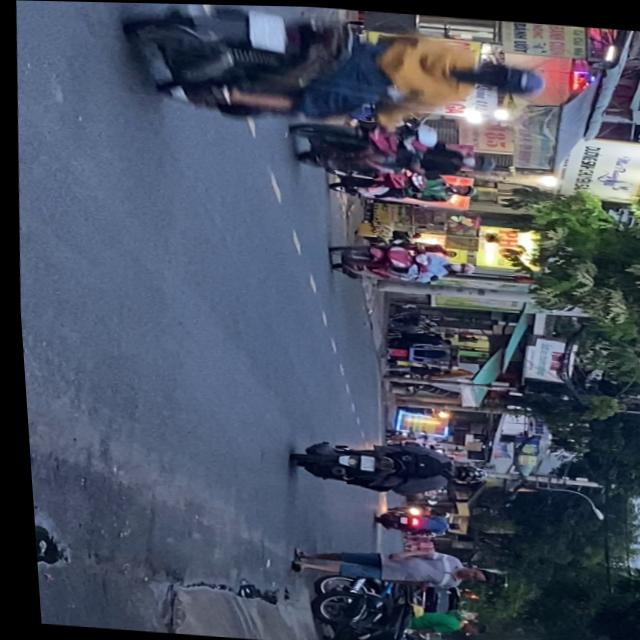helmet: (472, 55, 548, 96), (460, 148, 496, 169), (446, 459, 481, 480), (448, 180, 477, 194), (445, 258, 473, 272)
licenseplate: (115, 2, 556, 142), (284, 107, 500, 183), (284, 433, 484, 497), (322, 235, 475, 288), (323, 160, 480, 205)
nohelmet: (248, 9, 288, 49), (353, 453, 370, 468)
